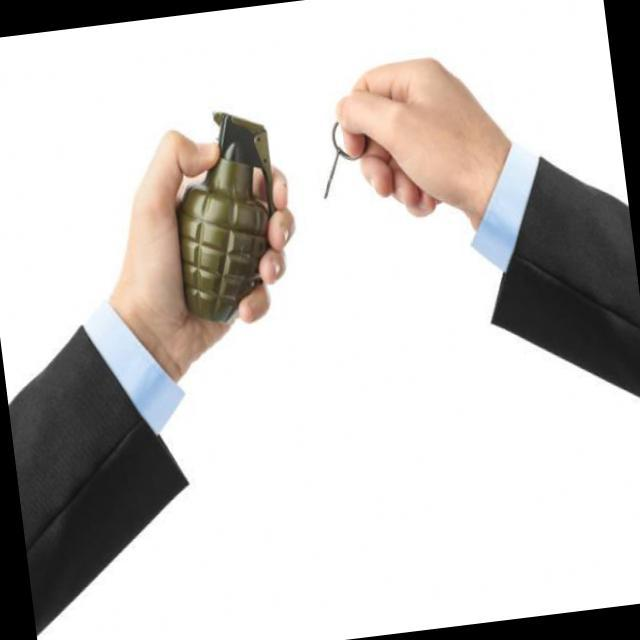grenade: (154, 101, 310, 324)
